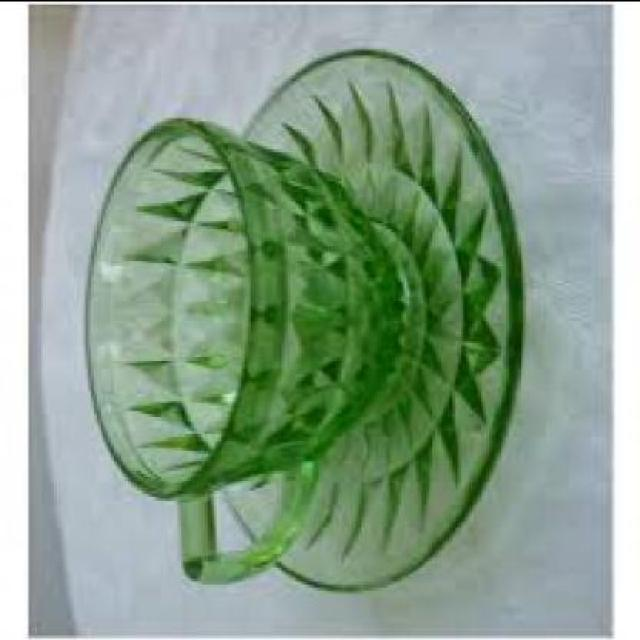GLASS: (208, 51, 523, 594), (83, 120, 415, 586)
